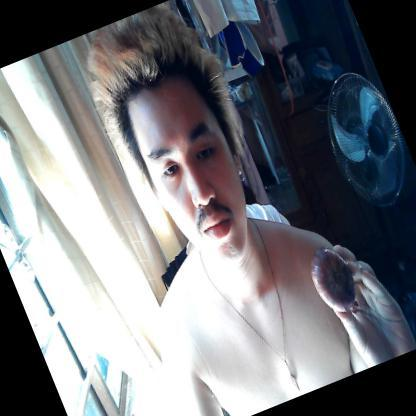onion: (300, 237, 368, 324)
